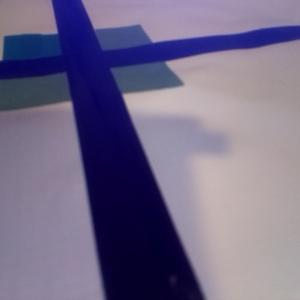bottom_left: (1, 61, 110, 111)
bottom_right: (69, 51, 184, 93)
top_right: (62, 25, 153, 63)
